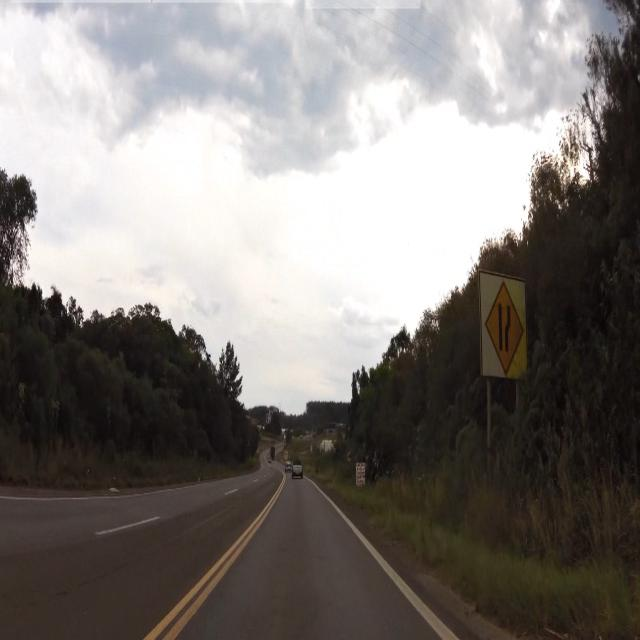A-21e: (484, 275, 525, 376)
